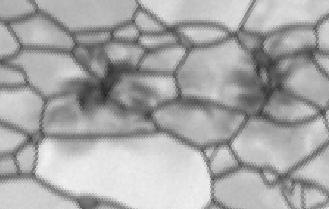good_void: (47, 34, 157, 132), (216, 31, 323, 128)
